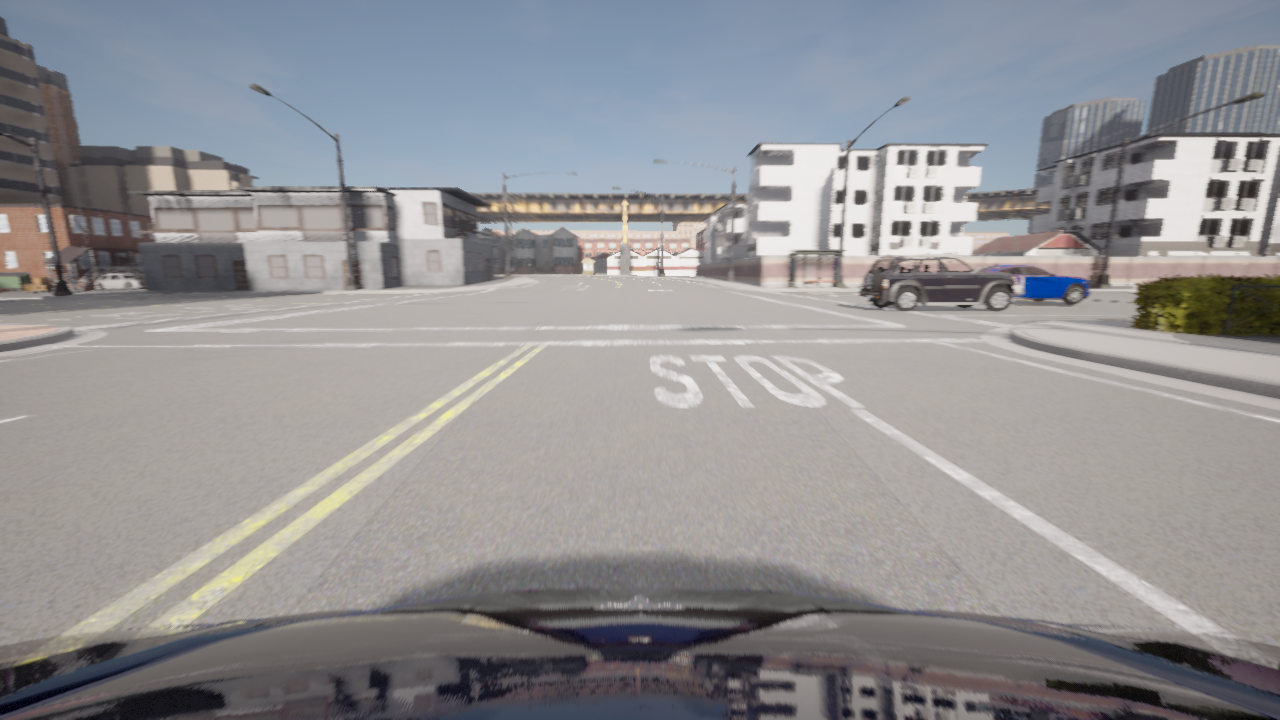cyclist: (0, 588, 1279, 719), (858, 252, 1023, 311), (978, 263, 1089, 303), (95, 274, 146, 290)
